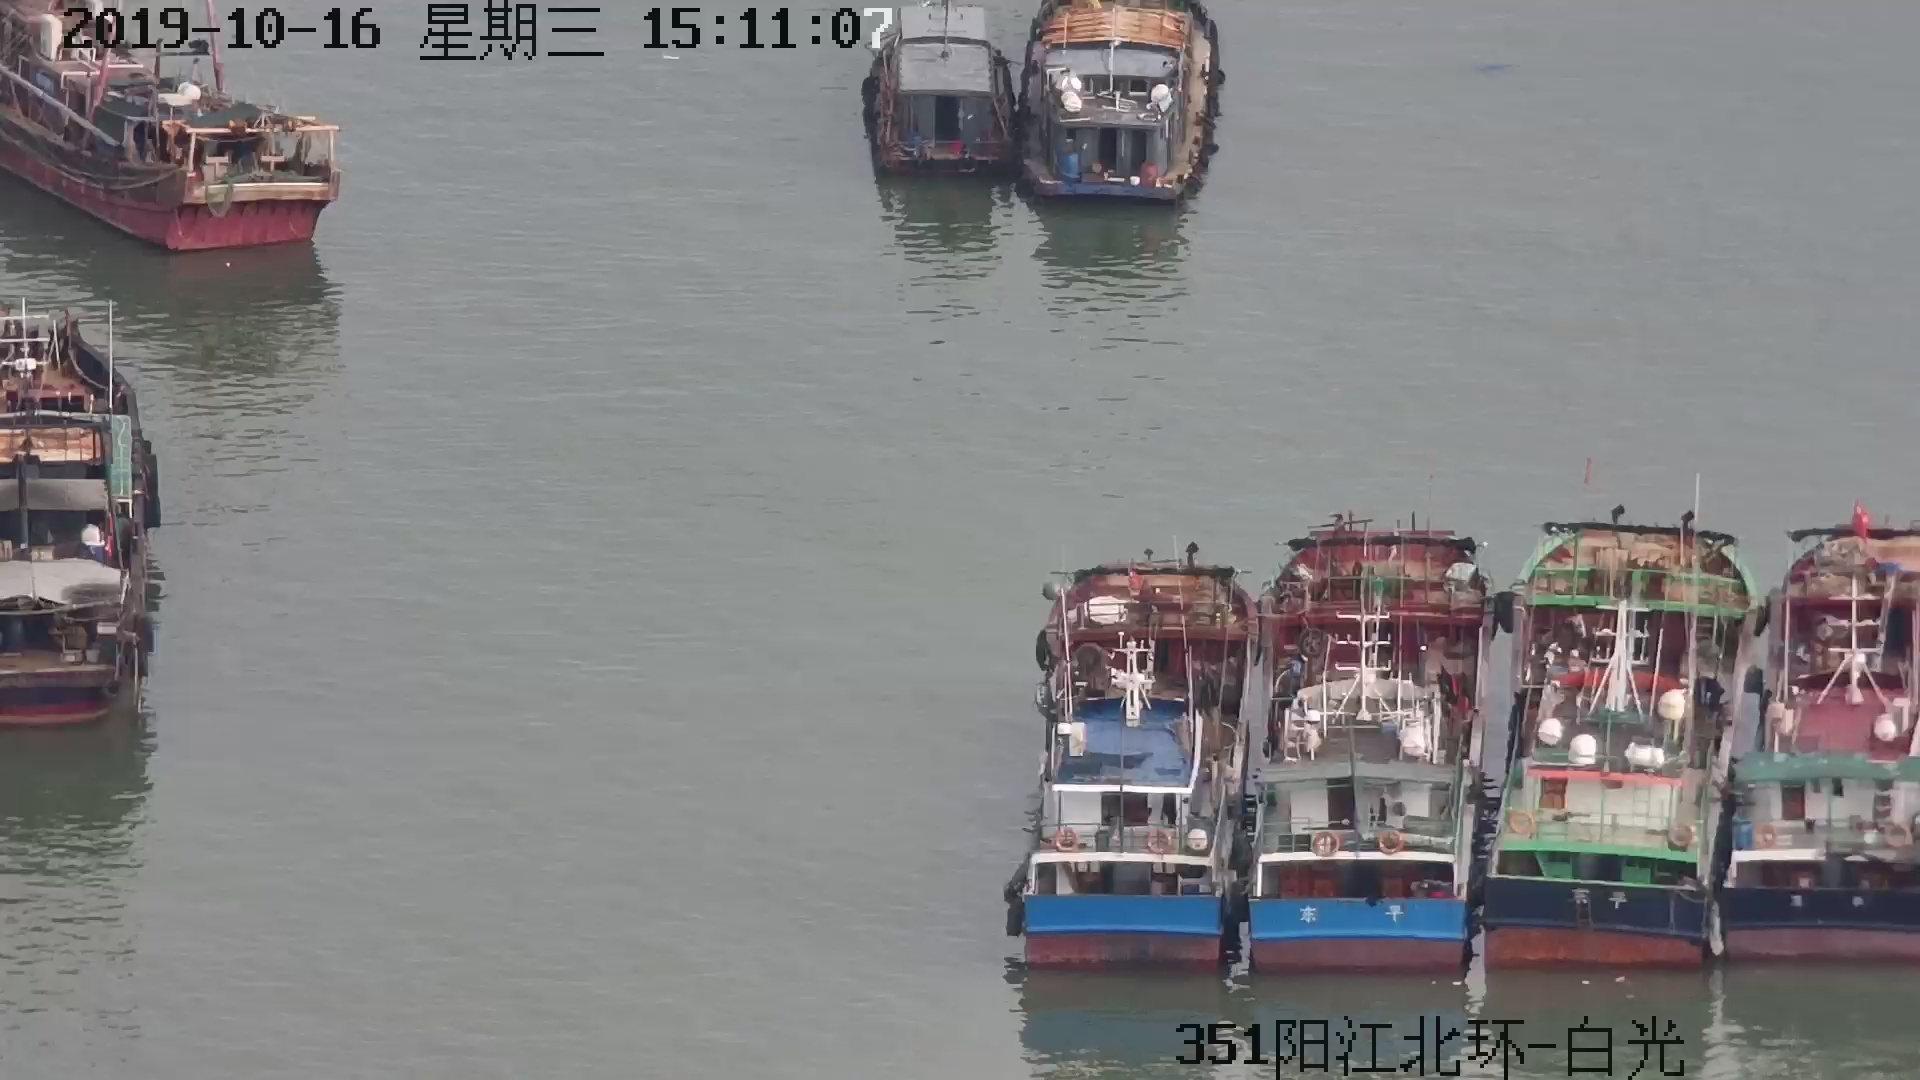ship: (1250, 518, 1491, 969), (1497, 500, 1724, 978), (1013, 541, 1251, 981), (1727, 491, 1920, 971), (1, 5, 342, 258), (1, 307, 164, 738), (1015, 3, 1221, 218), (865, 8, 1029, 189), (3, 508, 135, 721), (1480, 877, 1717, 975), (1, 675, 117, 731)
